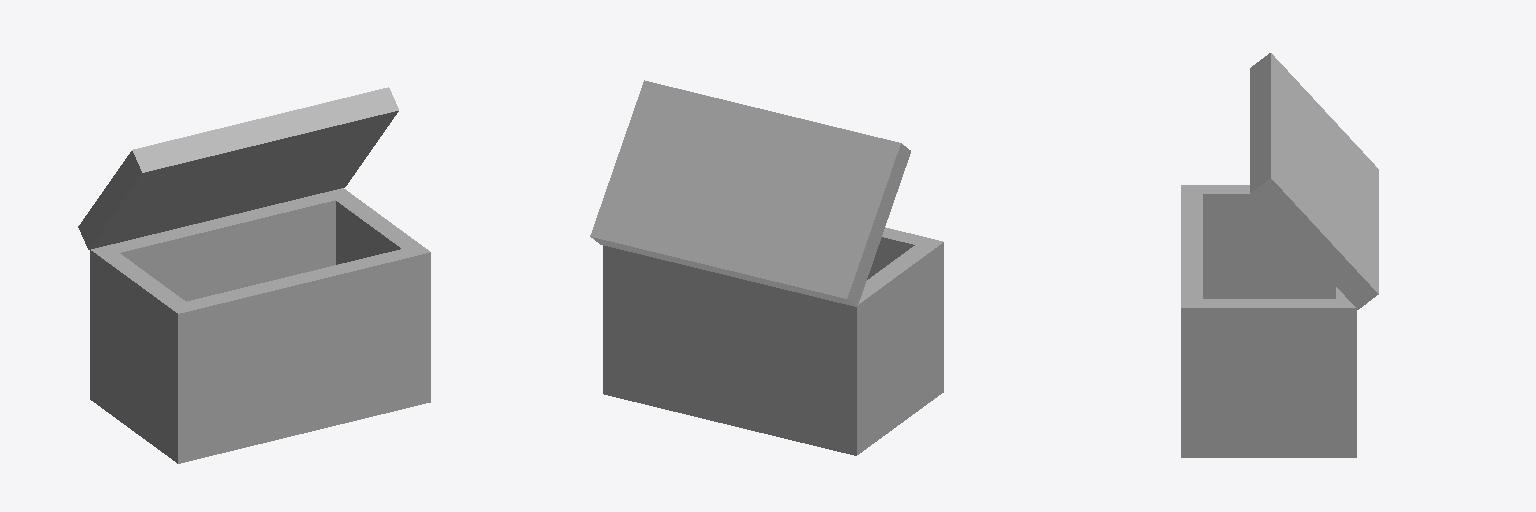
File: hutolada_nyitva.obj
3 renders of one model, left to right at view 1: azimuth 30°, elevation 25°; view 2: azimuth 150°, elevation 25°; view 3: azimuth 270°, elevation 25°, orthographic.
Parts seen in each view (by area): view 1: hutolada_nyitva; view 2: hutolada_nyitva; view 3: hutolada_nyitva.
Part boxes in pixels (x1,y1,x2,y2): hutolada_nyitva: (78, 87, 430, 463); hutolada_nyitva: (590, 80, 943, 455); hutolada_nyitva: (1181, 53, 1378, 457).
Size of the model in its own units: 118 by 123 by 78.37.